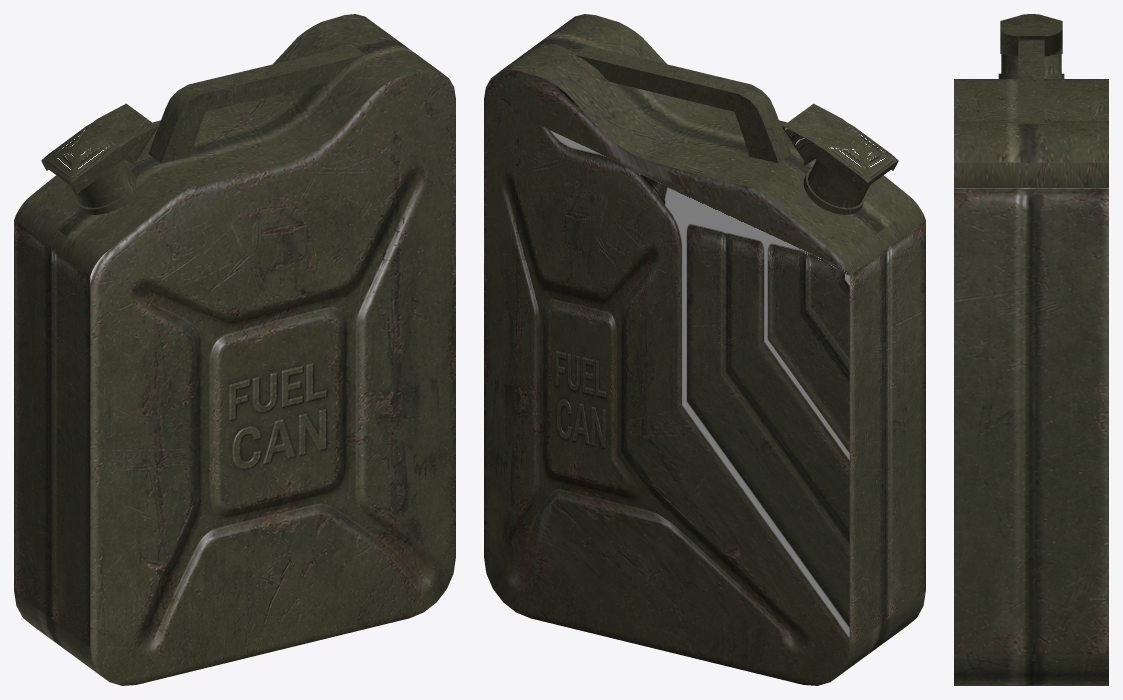
File: canister.glb
The picture shows the model from 3 angles, left to right: view 1: azimuth 30°, elevation 25°; view 2: azimuth 150°, elevation 25°; view 3: azimuth 270°, elevation 25°; orthographic projection.
Visible parts, largest first — view 1: Cube; view 2: Cube; view 3: Cube.
Part boxes in pixels (bbox=[...]): Cube: bbox=[14, 14, 455, 685]; Cube: bbox=[484, 14, 925, 685]; Cube: bbox=[954, 14, 1108, 685].
Size of the model in its own units: 0.3301 by 0.47 by 0.1193.
1 material, 1 textured.
